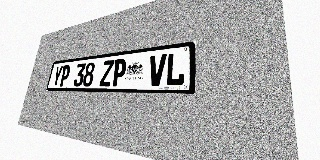3: (73, 63, 86, 86)
8: (82, 62, 96, 86)
L: (165, 51, 186, 86)
P: (111, 58, 127, 86), (59, 65, 71, 87)
V: (147, 54, 167, 86)
Y: (51, 66, 63, 87)
Z: (99, 60, 115, 86)
